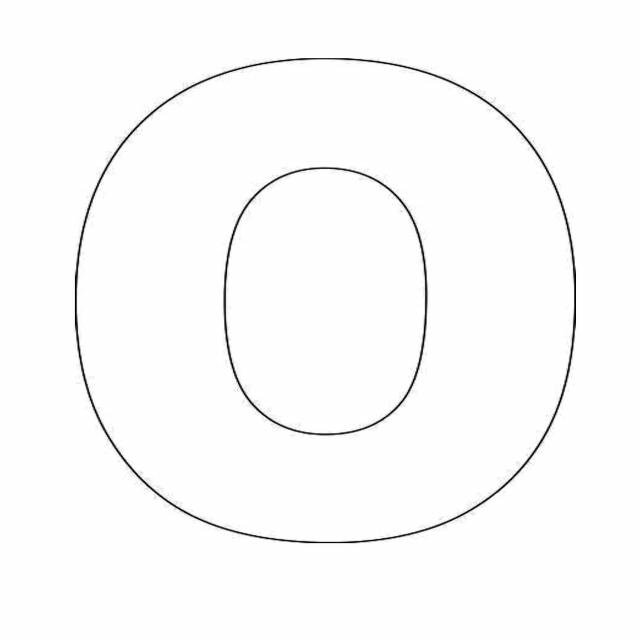O: (0, 24, 611, 576)
